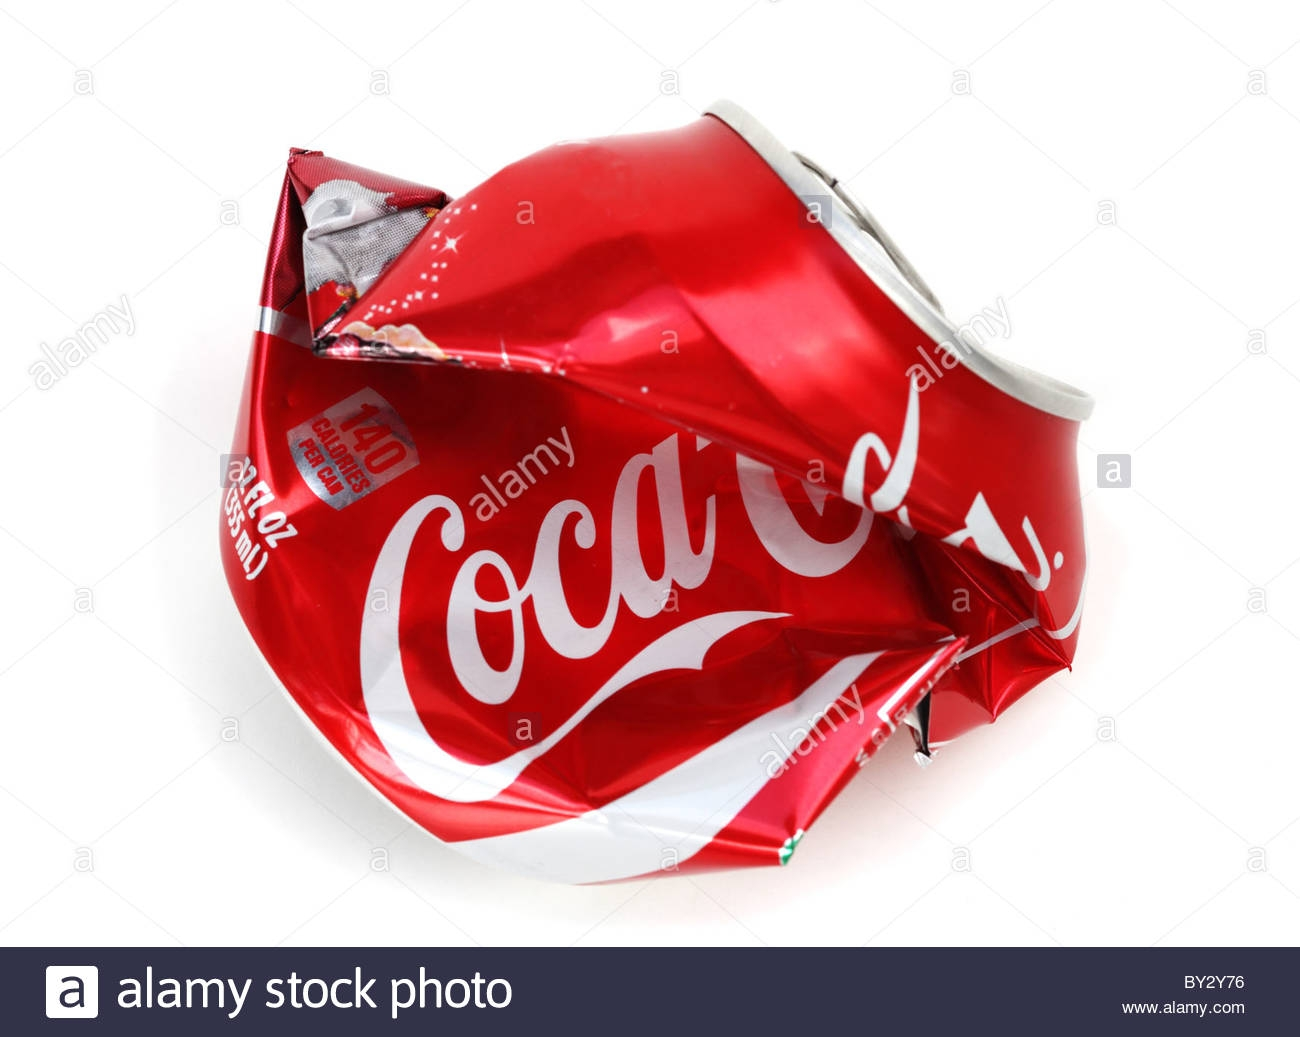metal: (203, 85, 1127, 914)
